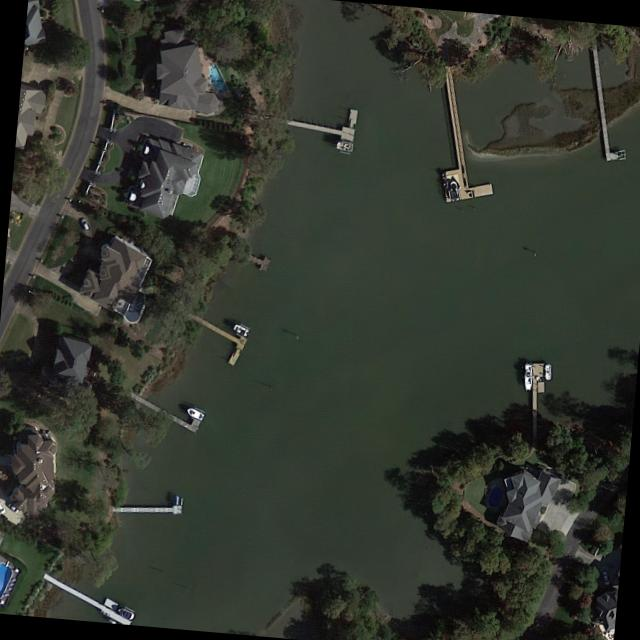ship: (183, 404, 205, 422), (230, 321, 249, 338), (447, 177, 459, 203), (115, 606, 135, 621), (522, 361, 531, 392), (332, 139, 352, 152), (543, 362, 551, 381)
small-vehicle: (4, 499, 19, 513), (78, 216, 90, 232), (0, 500, 5, 515)
